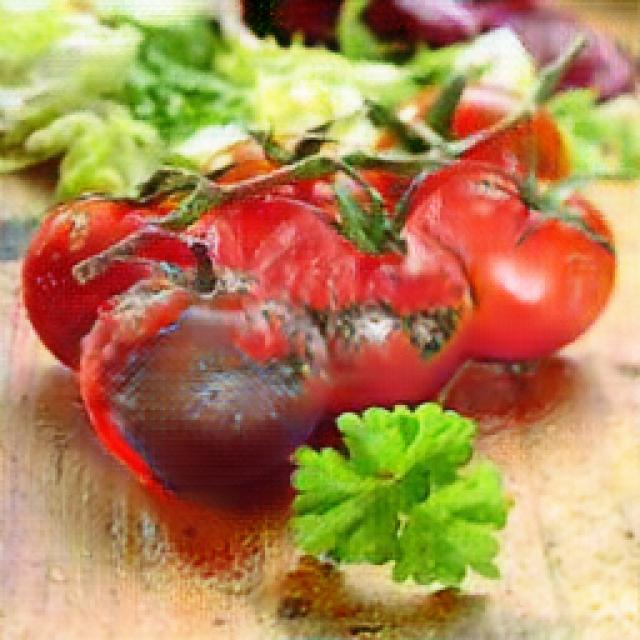overripe tomato: (88, 269, 319, 495), (264, 204, 468, 404)
